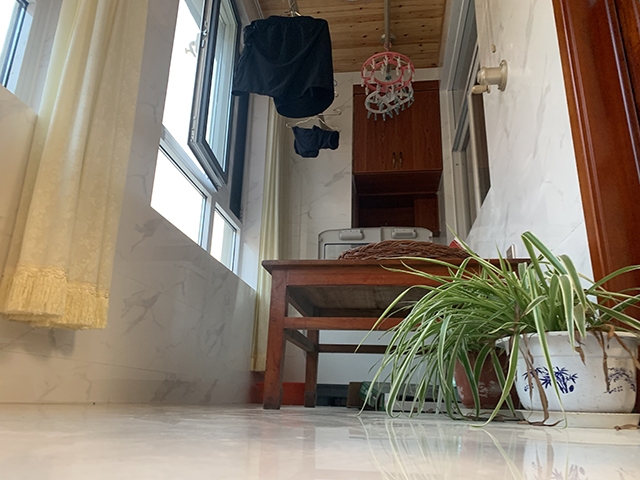curtain: (1, 1, 149, 333), (248, 99, 288, 374)
table: (259, 258, 449, 410)
